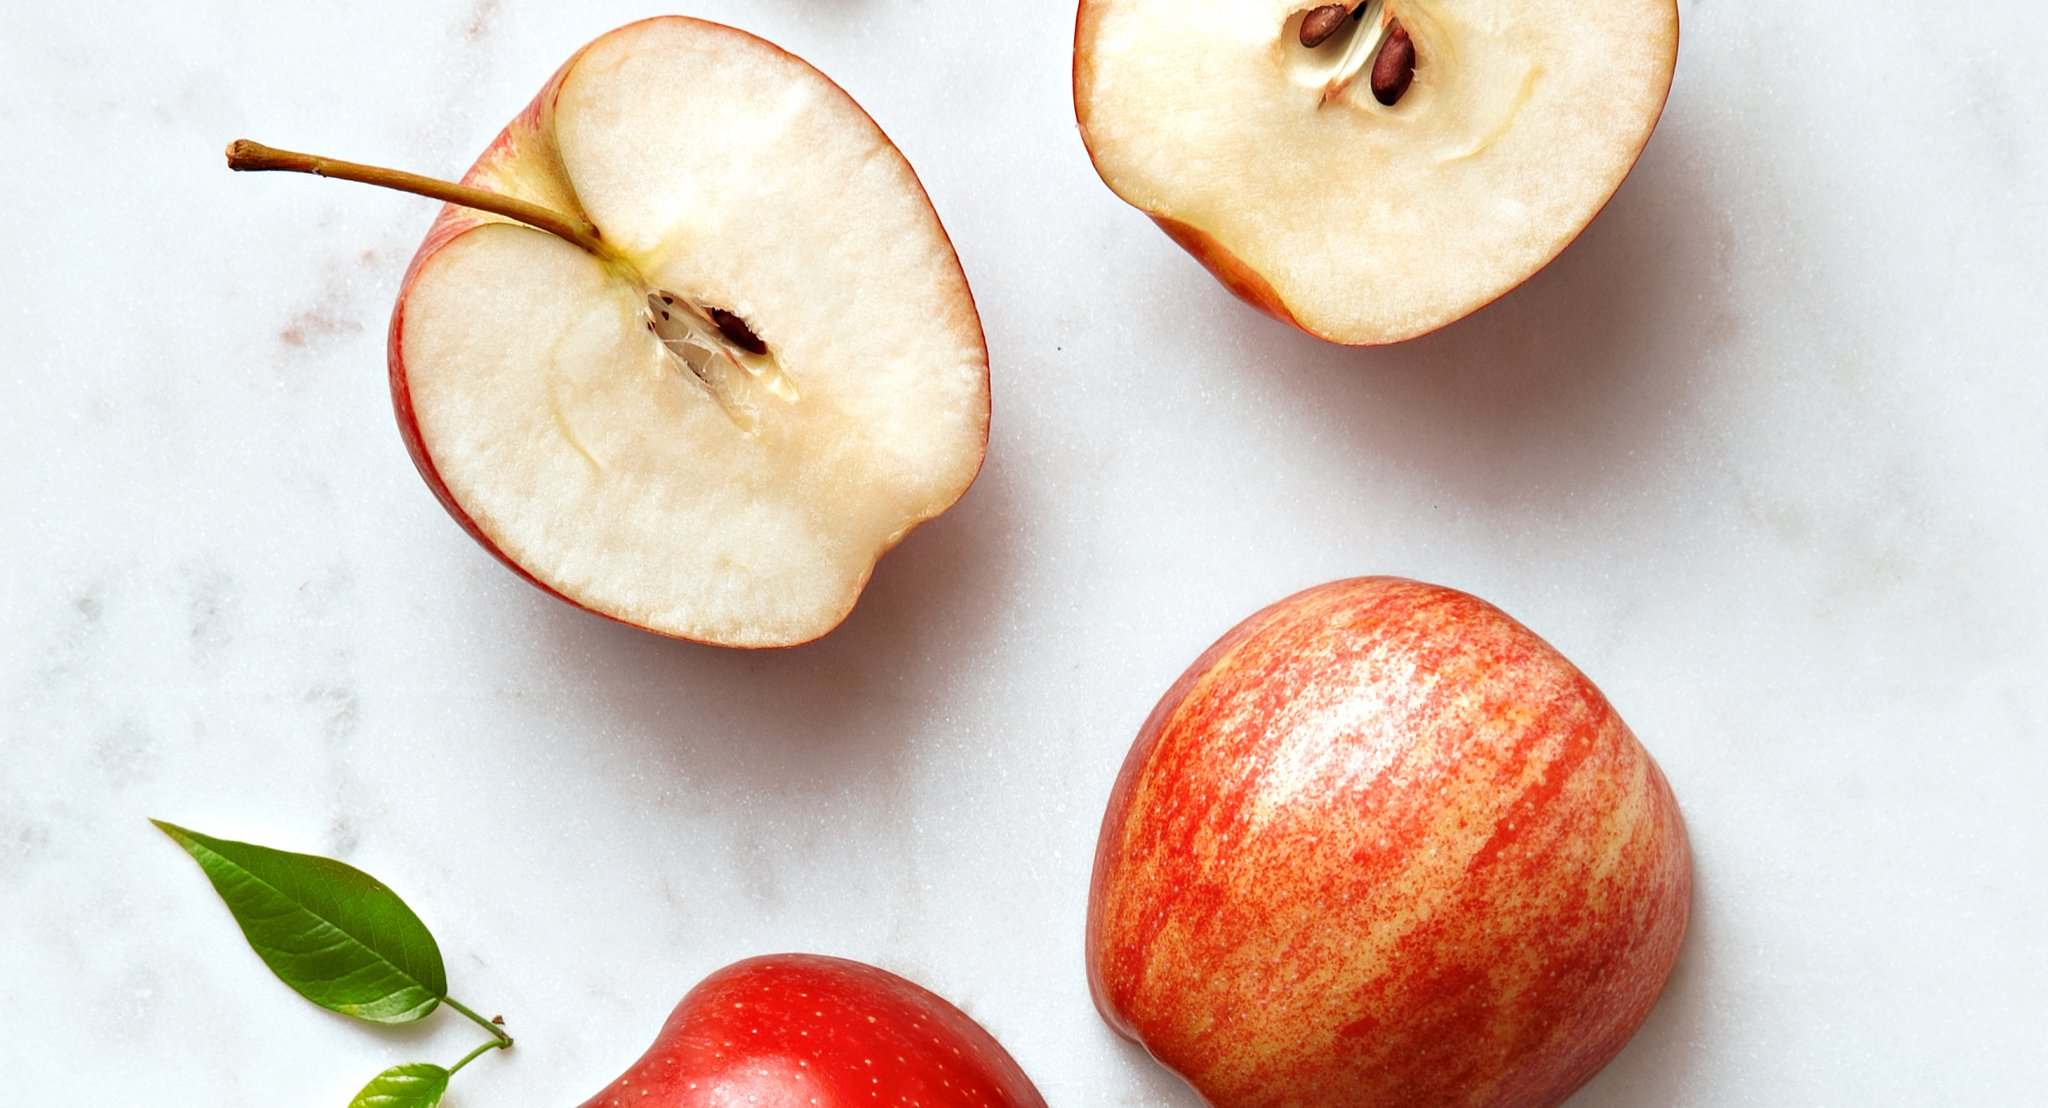Apple: (181, 29, 1066, 722), (1057, 543, 1766, 1108), (1057, 1, 1699, 446)
